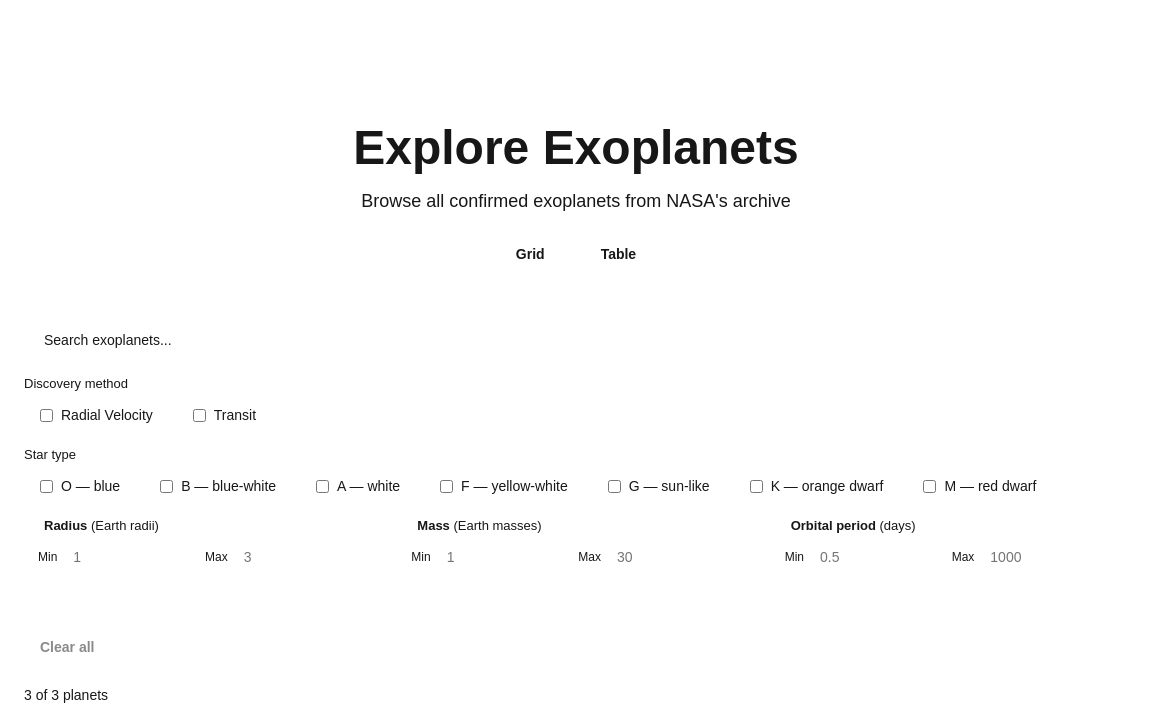
Test: ExploreClient results count › narrows the first number as a filter bites, leaving the total alone
This screenshot has width=1152, height=720.
Expected: the text "3 of 3 planets" is shown, [24,687,108,703]
Type "beta" into the field named "search by planet or host star".
click(576, 340); type("beta")  # box [24,320,1128,360]
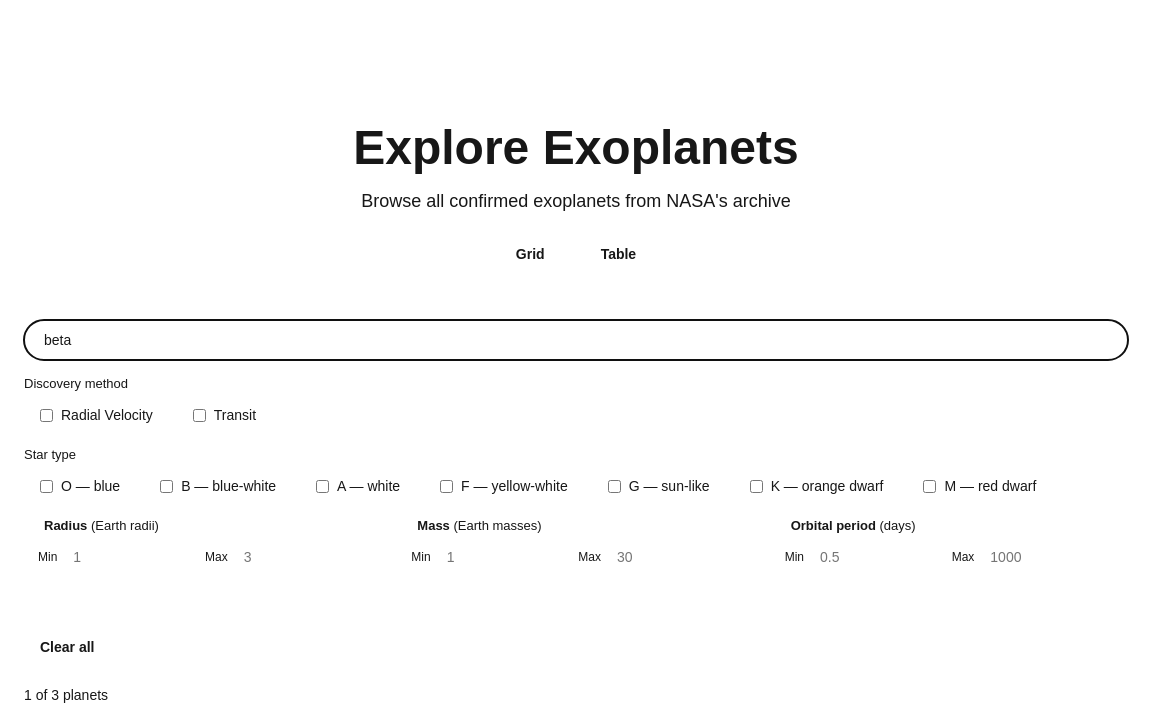
Expected: the text "1 of 3 planets" is shown, [24,687,108,703]
